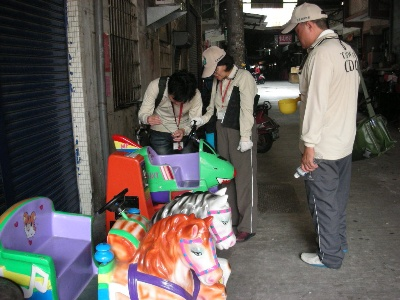bowl: (277, 98, 298, 115)
